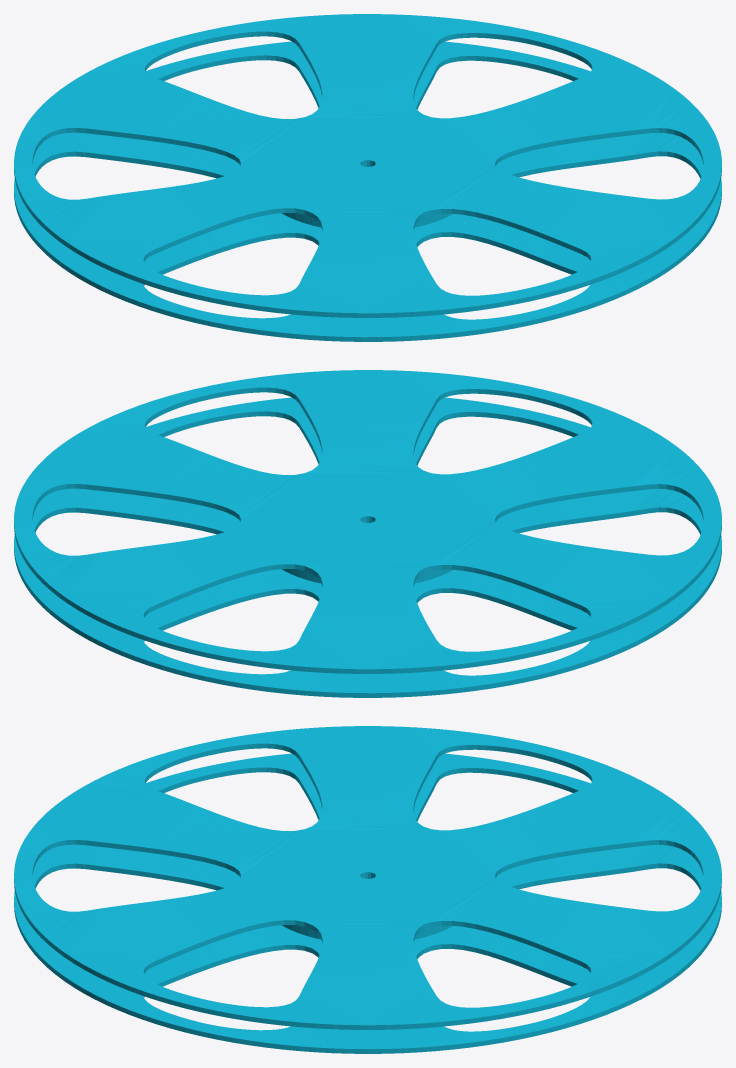
The model's file is reel2.glb.
3 renders of one model, top to bottom at view 1: azimuth 30°, elevation 25°; view 2: azimuth 150°, elevation 25°; view 3: azimuth 270°, elevation 25°, orthographic.
Visible parts, largest first — view 1: Reel; view 2: Reel; view 3: Reel.
Boxes of the visible parts, x1,y1,x2,y2 form: Reel: (14,14,721,341); Reel: (14,370,721,697); Reel: (14,726,721,1053).
Size of the model in its own units: 0.268 by 0.0125 by 0.268.
